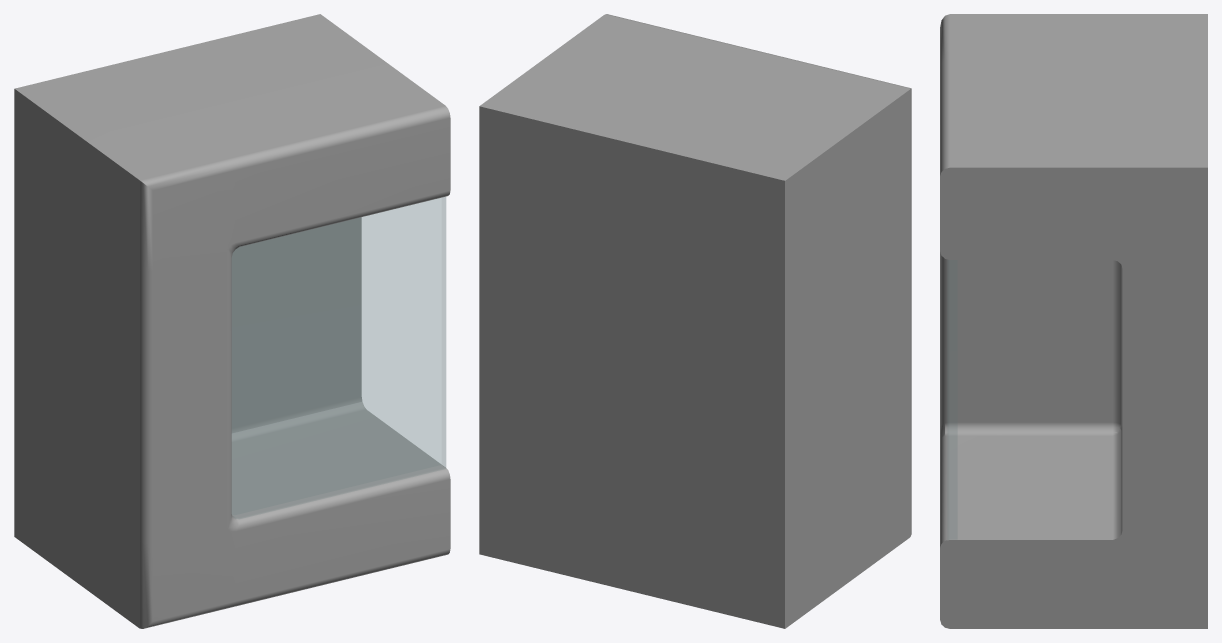
File: WallWindow_Left.fbx
The picture shows the model from 3 angles, left to right: view 1: azimuth 30°, elevation 25°; view 2: azimuth 150°, elevation 25°; view 3: azimuth 270°, elevation 25°; orthographic projection. The views are drawn at different scales.
Visible parts, largest first — view 1: WallWindow_Left; view 2: WallWindow_Left; view 3: WallWindow_Left.
Part boxes in pixels (x1=…): WallWindow_Left: x1=14, y1=14, x2=450, y2=628; WallWindow_Left: x1=479, y1=14, x2=911, y2=628; WallWindow_Left: x1=940, y1=14, x2=1207, y2=628.
Size of the model in its own units: 500 by 700 by 368.
